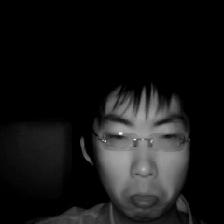sad: (73, 68, 209, 224)
